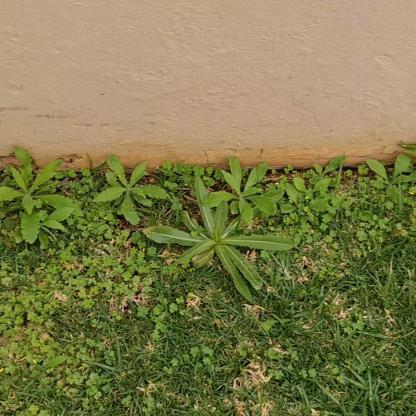Weeds: (142, 177, 294, 301), (1, 145, 82, 251), (91, 156, 167, 227), (202, 157, 276, 226), (366, 155, 411, 203), (284, 180, 332, 221)
